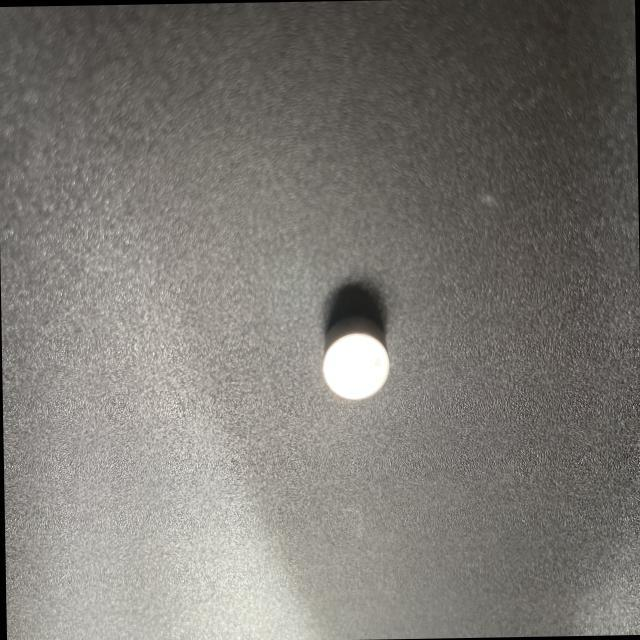COIN: (316, 314, 391, 404)
